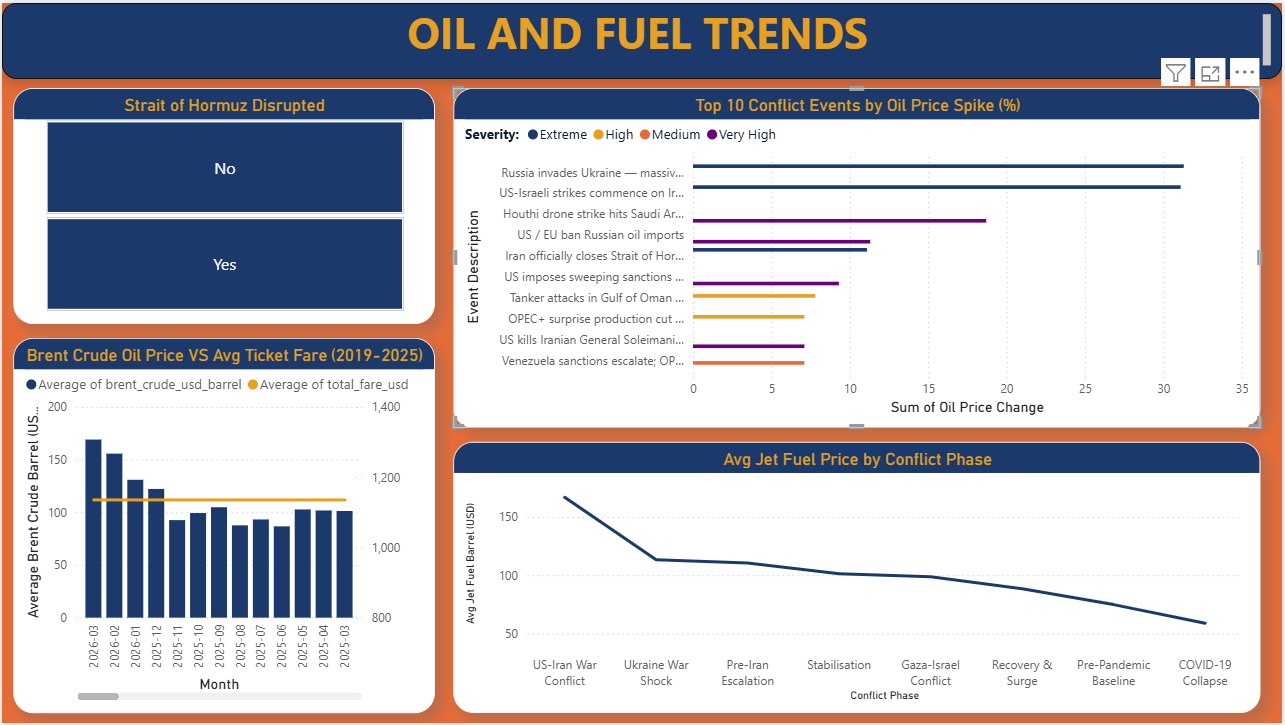

Layout of this report page (visuals, bound fields, positions):
{"tool":"powerbi","page":{"name":"Oil & Fuel Trends","canvas":[1280,720],"ordinal":1},"visuals":[{"type":"lineChart","title":"Avg Jet Fuel Price by Conflict Phase","fields":{"Category":["oil_jet_fuel_prices.conflict_phase"],"Y":["Avg(oil_jet_fuel_prices.jet_fuel_usd_barrel)"]},"box":[451.2,438.8,807.5,271.2],"z":0},{"type":"lineStackedColumnComboChart","title":"Brent Crude Oil Price VS Avg Ticket Fare (2019-2025)","fields":{"Category":["oil_jet_fuel_prices.month"],"Y":["Avg(oil_jet_fuel_prices.brent_crude_usd_barrel)"],"Y2":["Avg(airline_ticket_prices.total_fare_usd)"]},"box":[11.2,335,421.2,375],"z":1000},{"type":"textbox","box":[0,0,1280,76.2],"z":2000},{"type":"clusteredBarChart","title":"Top 10 Conflict Events by Oil Price Spike (%)","fields":{"Category":["conflict_oil_events.event_description"],"Y":["Sum(conflict_oil_events.oil_price_change_pct)"],"Series":["conflict_oil_events.severity"]},"box":[451.2,85,807.5,340],"z":3000},{"type":"slicer","title":"Strait of Hormuz Disrupted","fields":{"Values":["oil_jet_fuel_prices.strait_hormuz_disrupted"]},"box":[11.2,85,421.2,236.2],"z":4000}]}

Visuals, with their boxes in screenshot pixels (x1, y1, x2, y2), scaled from the page's 1280x720 canvas onto the 1285x725 screenshot:
"Avg Jet Fuel Price by Conflict Phase" lineChart: bbox=(453, 442, 1264, 715)
"Brent Crude Oil Price VS Avg Ticket Fare (2019-2025)" lineStackedColumnComboChart: bbox=(11, 337, 434, 715)
textbox: bbox=(0, 0, 1284, 77)
"Top 10 Conflict Events by Oil Price Spike (%)" clusteredBarChart: bbox=(453, 86, 1264, 428)
"Strait of Hormuz Disrupted" slicer: bbox=(11, 86, 434, 323)
